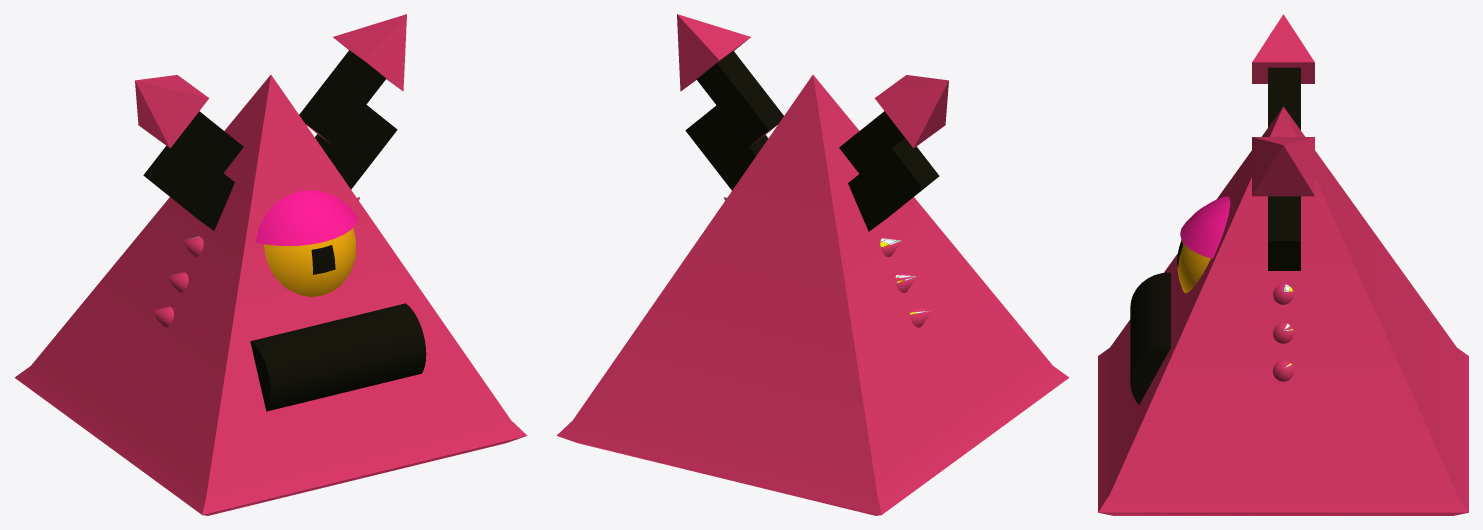
File: virus3.fbx
3 renders of one model, left to right at view 1: azimuth 30°, elevation 25°; view 2: azimuth 150°, elevation 25°; view 3: azimuth 270°, elevation 25°, orthographic.
Visible parts, largest first — view 1: Virus3; view 2: Virus3; view 3: Virus3.
Part boxes in pixels (box(x1,y1,x2,y2)): Virus3: box(14, 14, 527, 515); Virus3: box(556, 14, 1069, 515); Virus3: box(1098, 14, 1468, 515).
Bounding box in the file's own units: 197 × 216 × 197.
